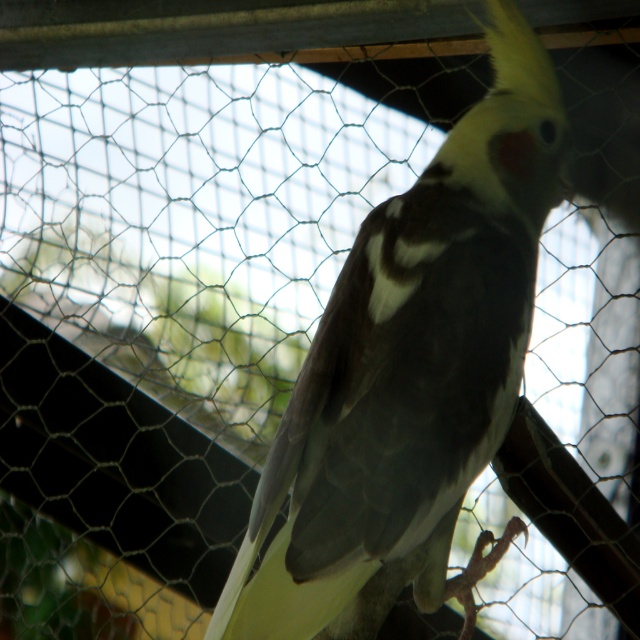Parrot: (201, 0, 584, 639)
